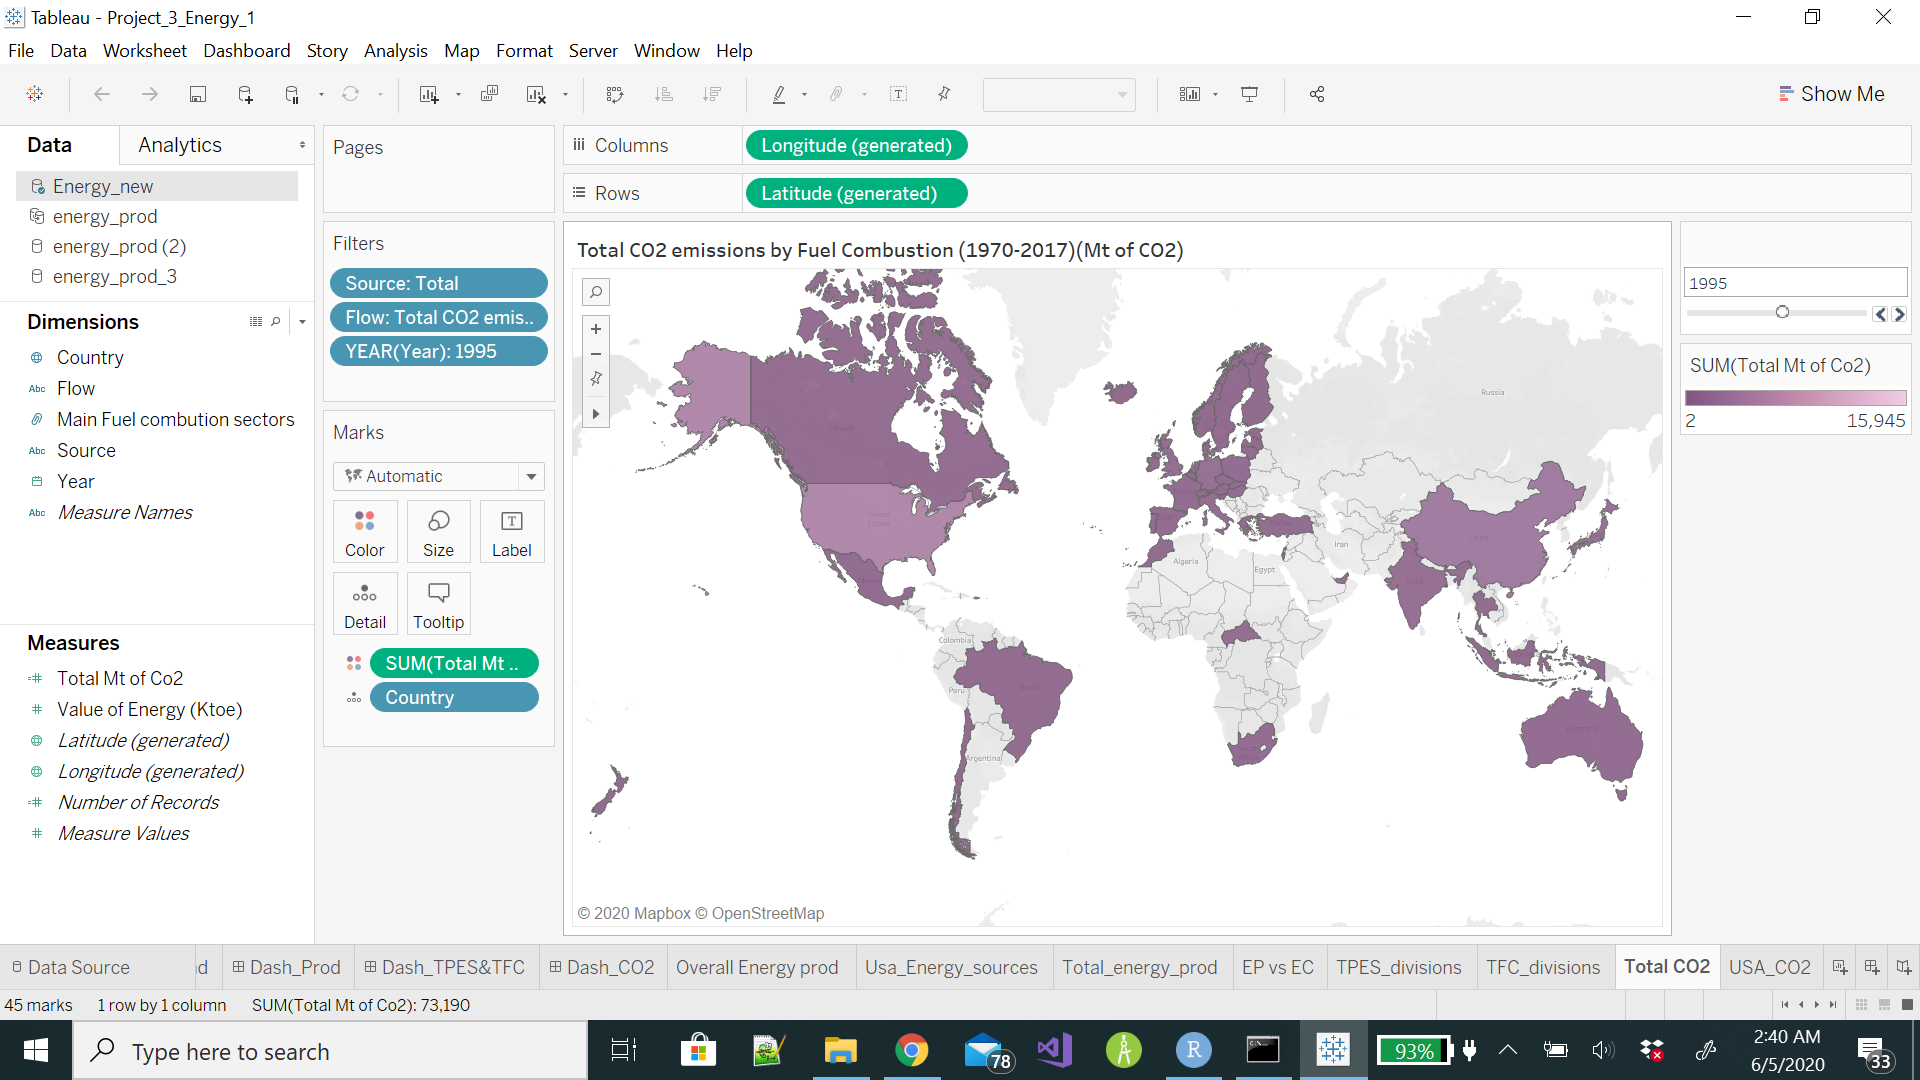

The dashboard page shown, as its layout file describes it:
{"tool":"tableau","page":{"name":"Dash_CO2","canvas":[1000,800],"ordinal":0},"visuals":[{"type":"legend","title":"Total CO2","param":"[federated.17dqt6f0b9hocf1efo5nf13qwbay].[sum:Value of Energy (Ktoe) (copy)_1955","box":[539,414,159,114]},{"type":"filter","title":"Total CO2","param":"[federated.17dqt6f0b9hocf1efo5nf13qwbay].[yr:variable:ok]","box":[828,426,97,98]}]}

Visuals, with their boxes on the page's 1000x800 design canvas (x1, y1, x2, y2). These are canvas units, not pixel positions in the 1920x1080 screenshot, which may show the page scaled, cropped or inside an application window:
"Total CO2" legend: region(539, 414, 698, 528)
"Total CO2" filter: region(828, 426, 925, 524)
